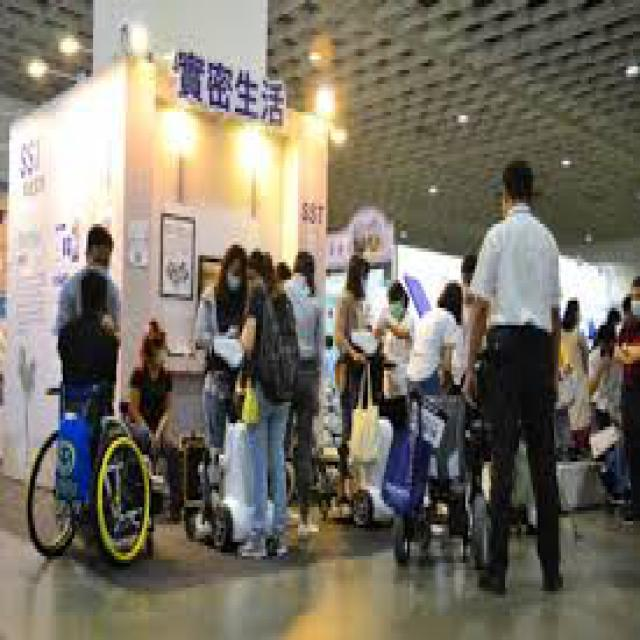wheelchairs: (21, 367, 170, 567), (396, 353, 496, 560)
